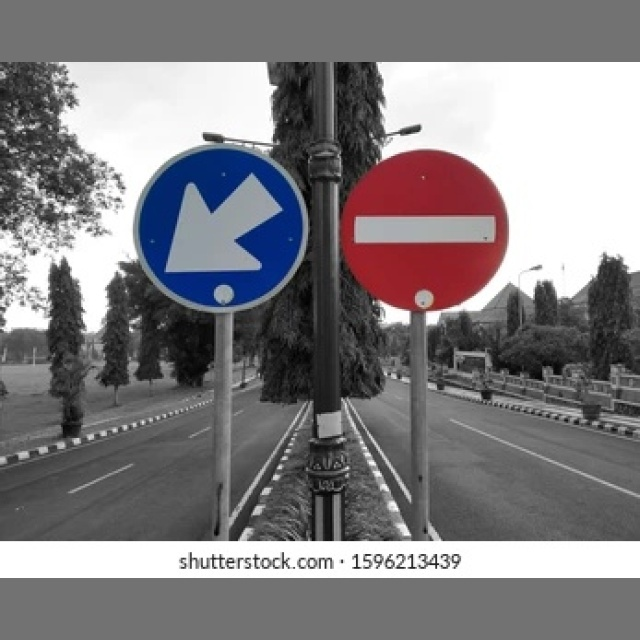Compulsory_Keep_Left: (137, 148, 303, 305)
